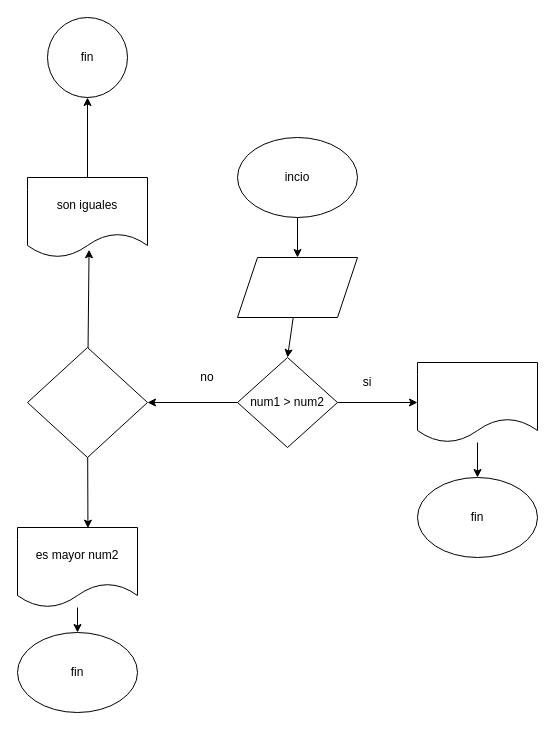
Image size: 555x730. Some labels were removed from this diagram. Each missing label, with the centre of its shape:
"es mayor num1" belongs at point (477, 402).
"num1 < num2" belongs at point (87, 402).
"num1,num2" belongs at point (297, 287).
